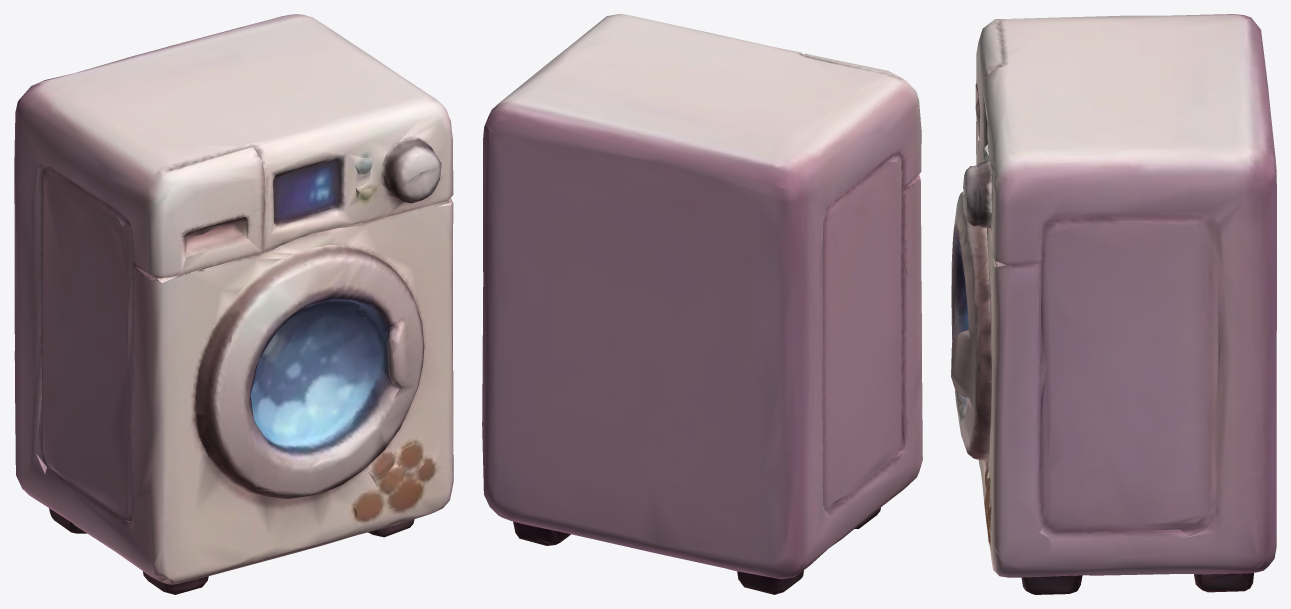
Rendered from appl13.glb.
The picture shows the model from 3 angles, left to right: view 1: azimuth 30°, elevation 25°; view 2: azimuth 150°, elevation 25°; view 3: azimuth 270°, elevation 25°; orthographic projection. The views are drawn at different scales.
Bounding box in the file's own units: 0.1774 × 0.2308 × 0.1523.
1 material, 1 textured.
